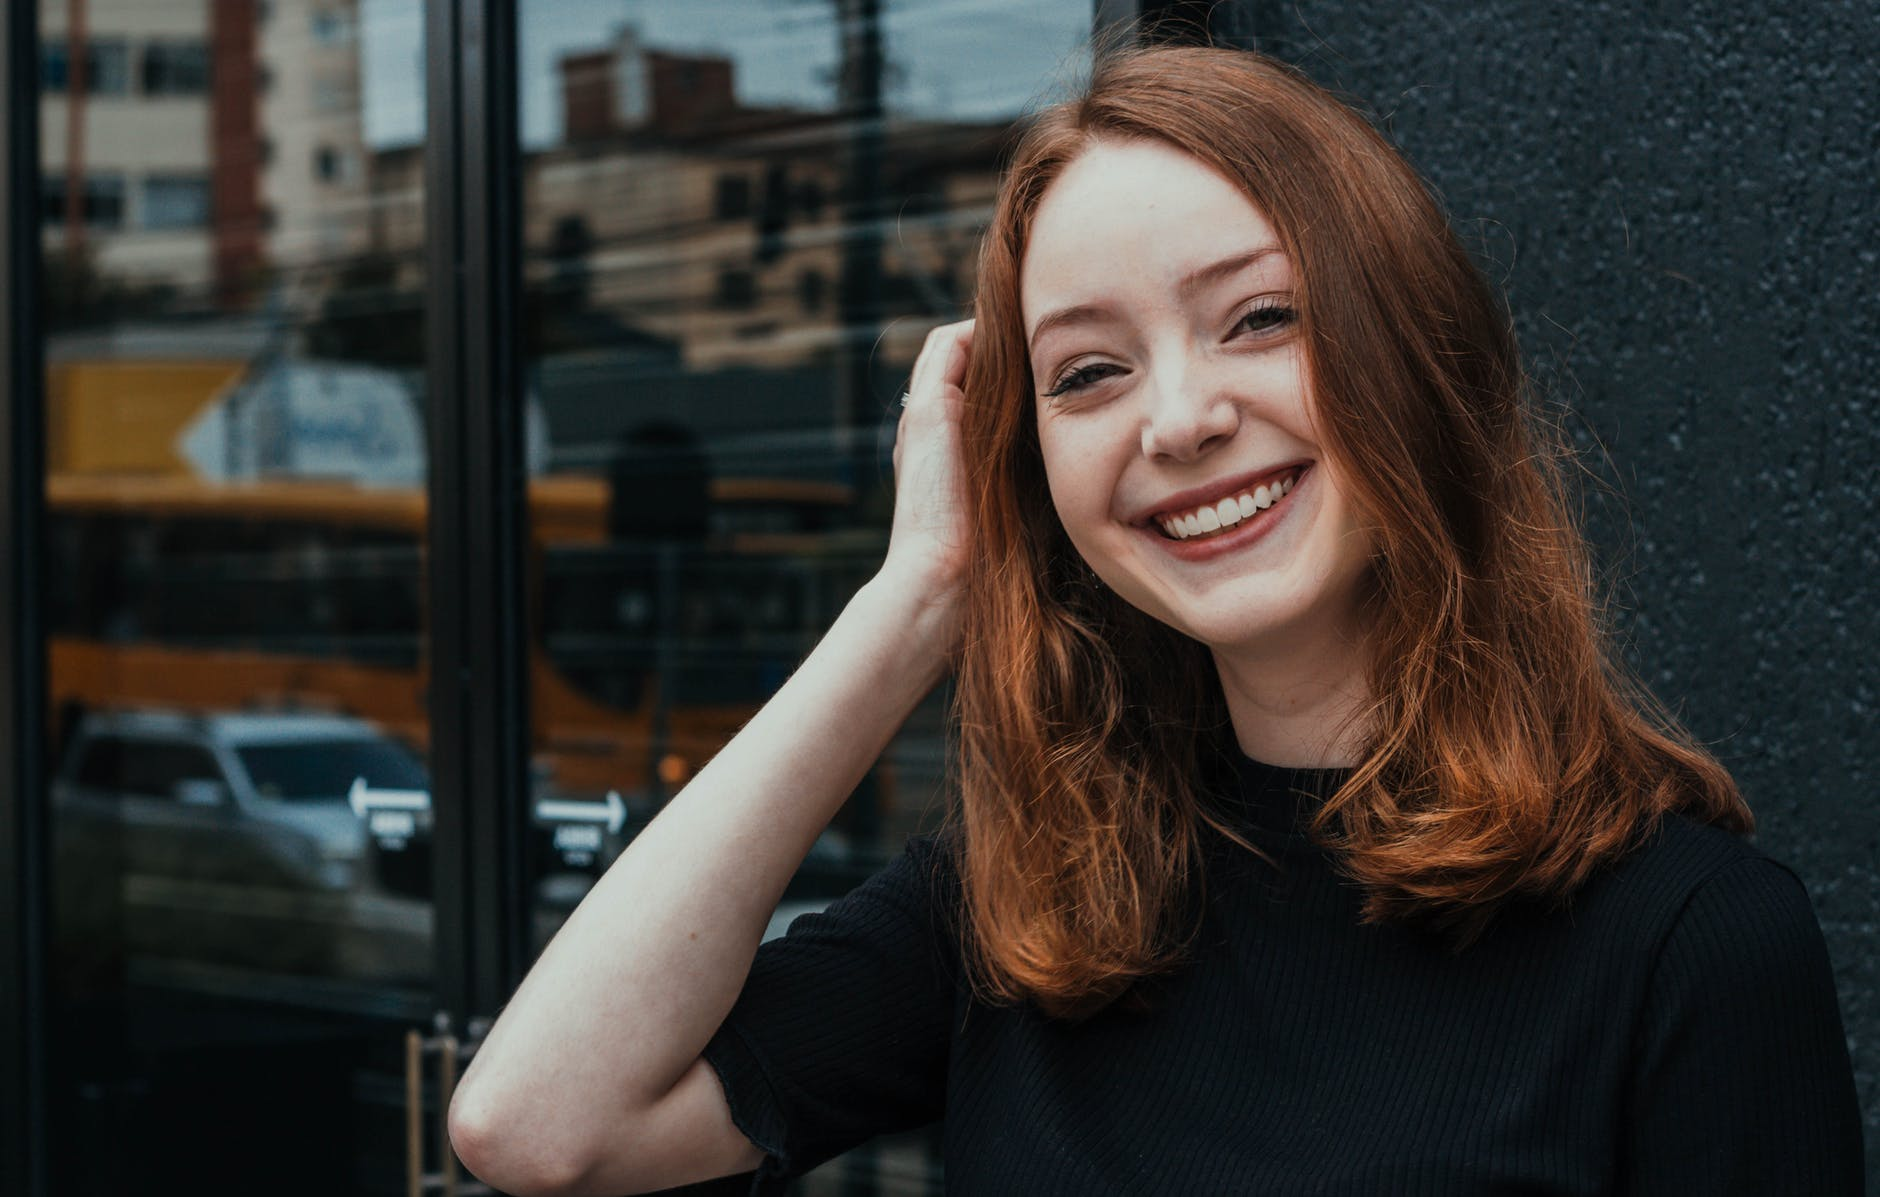bare: (1038, 390, 1379, 637)
